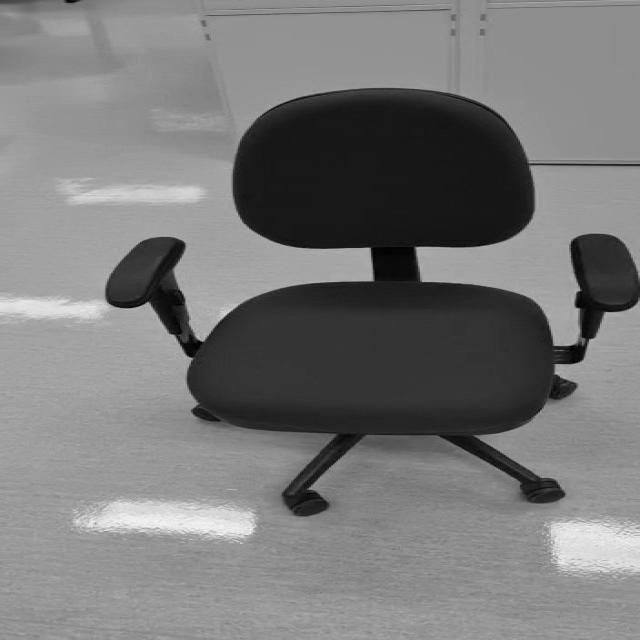chair: (108, 88, 640, 515)
